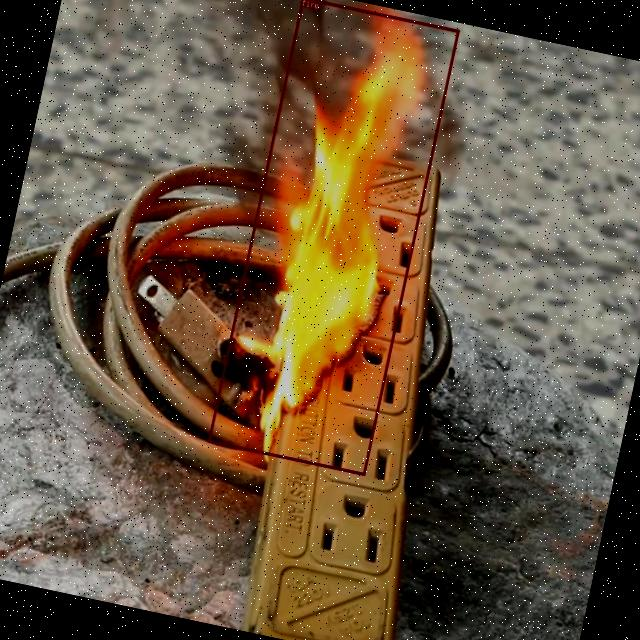fire: (207, 0, 458, 474)
